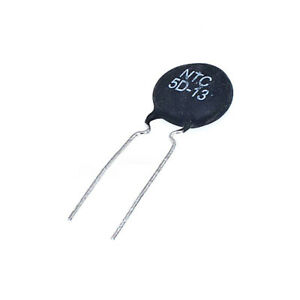capacitor: (116, 33, 259, 196)
